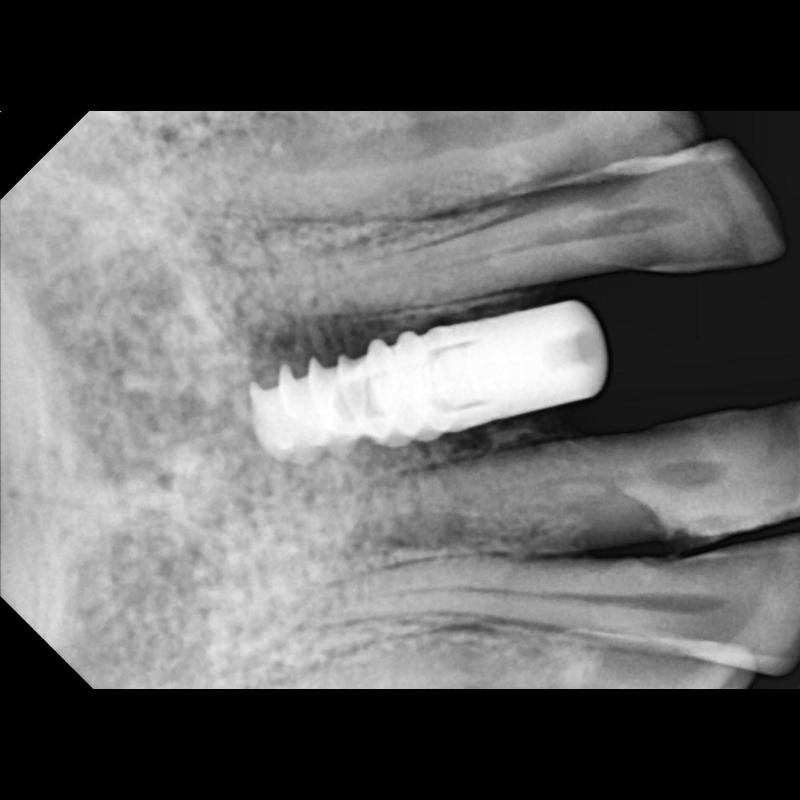NORIS: (245, 294, 609, 466)
